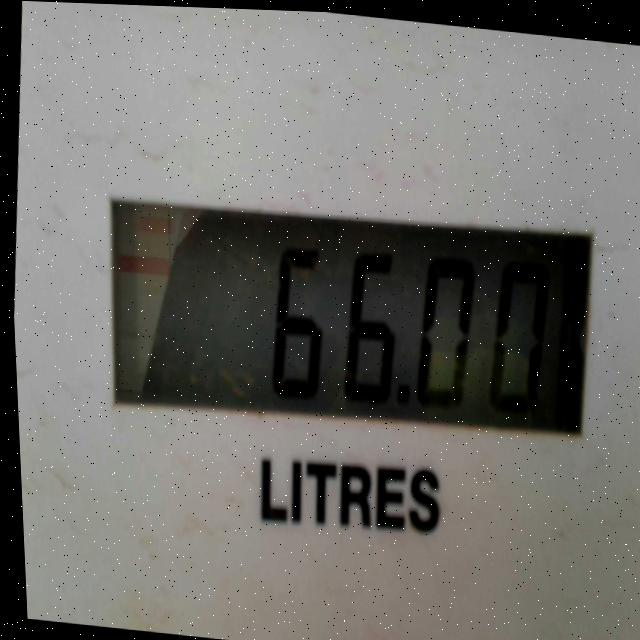.: (395, 380, 407, 402)
0: (484, 256, 550, 408), (410, 252, 475, 405)
6: (265, 246, 326, 396), (339, 252, 397, 396)
